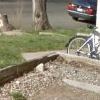Bicycle: (64, 24, 100, 57)
